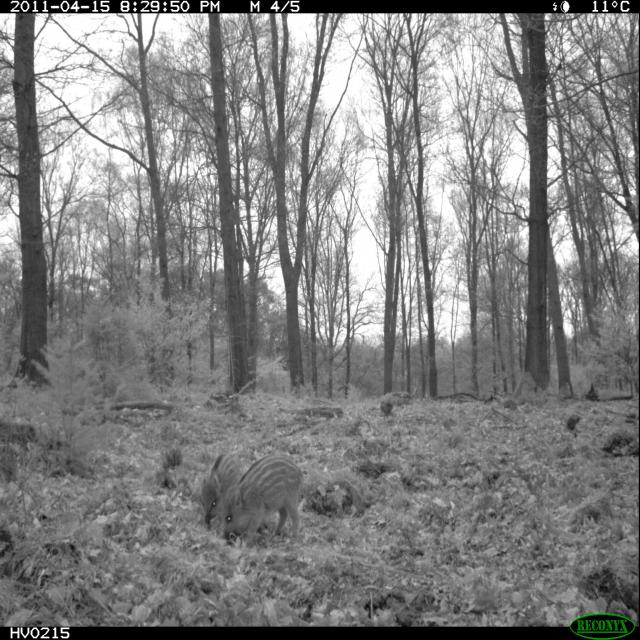boar: (173, 416, 348, 560), (195, 434, 258, 528)
